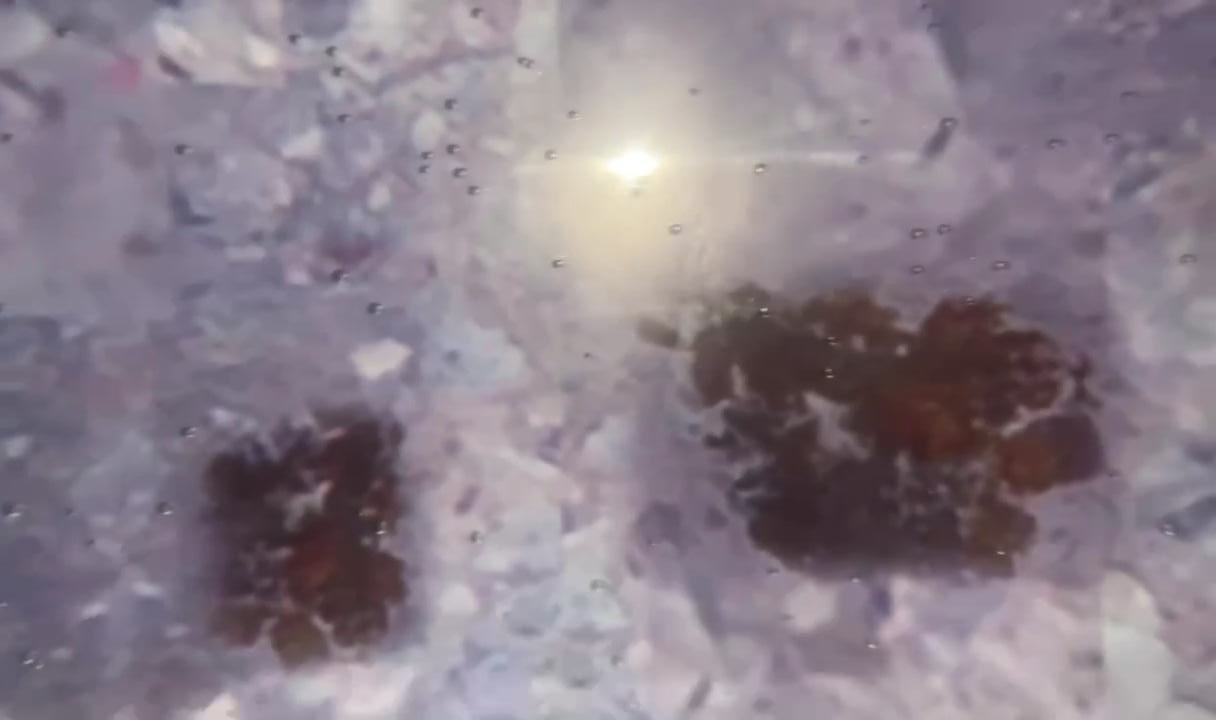Corrosion: (634, 278, 1109, 587), (200, 410, 412, 671)
